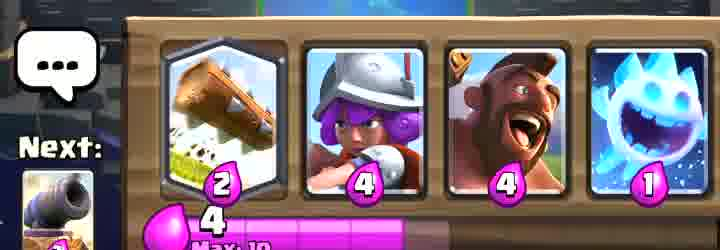cannon: (23, 171, 93, 250)
hog-rider: (444, 54, 557, 198)
ice-spirit: (595, 46, 710, 199)
log: (169, 44, 280, 186)
musketeer: (308, 47, 425, 203)
